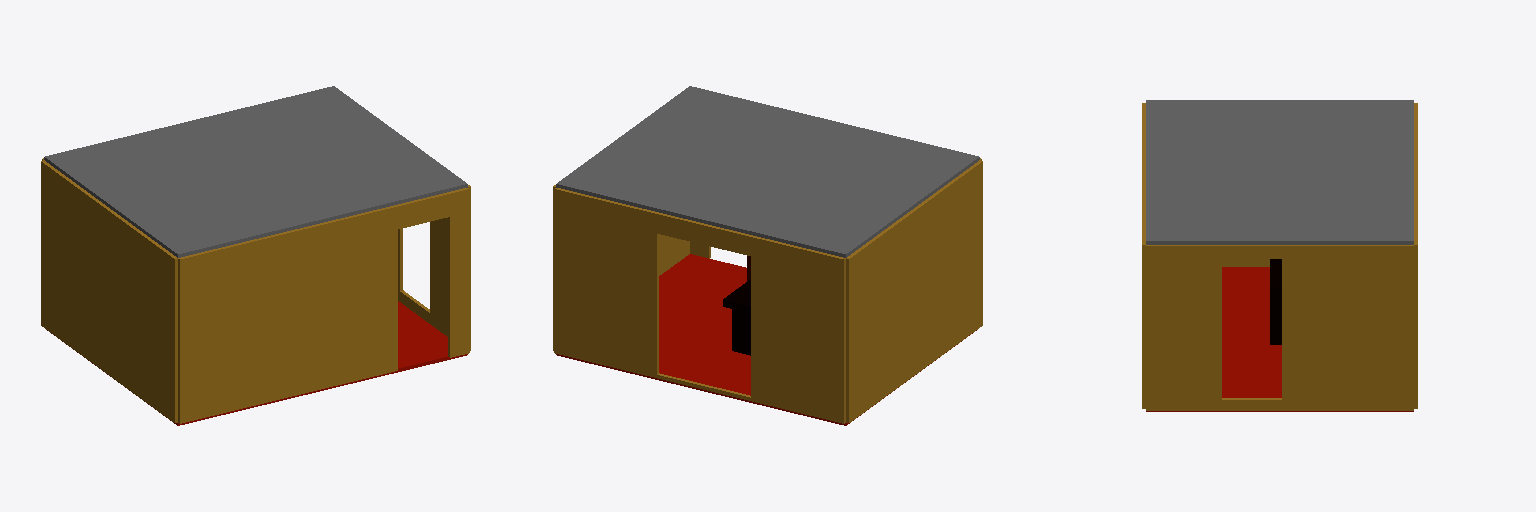
File: habitacionPc.obj
3 views of the same model, side by side, from view 1: azimuth 30°, elevation 25°; view 2: azimuth 150°, elevation 25°; view 3: azimuth 270°, elevation 25° (orthographic).
Parts seen in each view (by area): view 1: pared_trofeos_Cube.005, Techo_Cube.003, pared_izq_Cube.006, pared_puerta_Cube.007, Suelo_Cube.002; view 2: Techo_Cube.003, pared_ventana_Cube.004, pared_izq_Cube.006, Suelo_Cube.002, Mesa_Cube.009, pared_puerta_Cube.007; view 3: Techo_Cube.003, pared_puerta_Cube.007, Suelo_Cube.002, pared_trofeos_Cube.005, pared_ventana_Cube.004, Mesa_Cube.009.
Boxes of the visible parts, x1=… form: pared_trofeos_Cube.005: x1=178, y1=188, x2=469, y2=423; Techo_Cube.003: x1=44, y1=86, x2=467, y2=257; pared_izq_Cube.006: x1=41, y1=160, x2=177, y2=422; pared_puerta_Cube.007: x1=398, y1=185, x2=470, y2=350; Suelo_Cube.002: x1=47, y1=301, x2=467, y2=425; Techo_Cube.003: x1=556, y1=86, x2=979, y2=257; pared_ventana_Cube.004: x1=554, y1=188, x2=845, y2=423; pared_izq_Cube.006: x1=846, y1=160, x2=982, y2=422; Suelo_Cube.002: x1=556, y1=254, x2=976, y2=425; Mesa_Cube.009: x1=723, y1=279, x2=750, y2=355; pared_puerta_Cube.007: x1=553, y1=185, x2=689, y2=350; Techo_Cube.003: x1=1146, y1=100, x2=1413, y2=244; pared_puerta_Cube.007: x1=1146, y1=245, x2=1413, y2=410; Suelo_Cube.002: x1=1146, y1=267, x2=1413, y2=411; pared_trofeos_Cube.005: x1=1142, y1=103, x2=1145, y2=408; pared_ventana_Cube.004: x1=1414, y1=103, x2=1417, y2=408; Mesa_Cube.009: x1=1270, y1=259, x2=1281, y2=344.
Bounding box in the file's own units: 4.29 × 2.37 × 3.45.